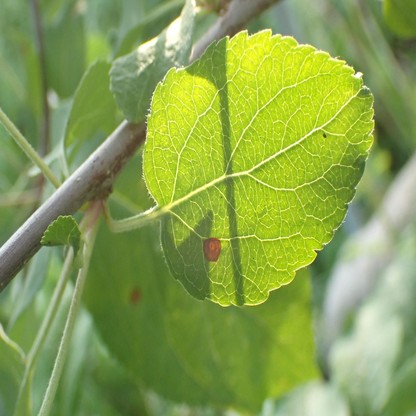frogeye: (203, 238, 221, 261), (130, 286, 140, 303)
